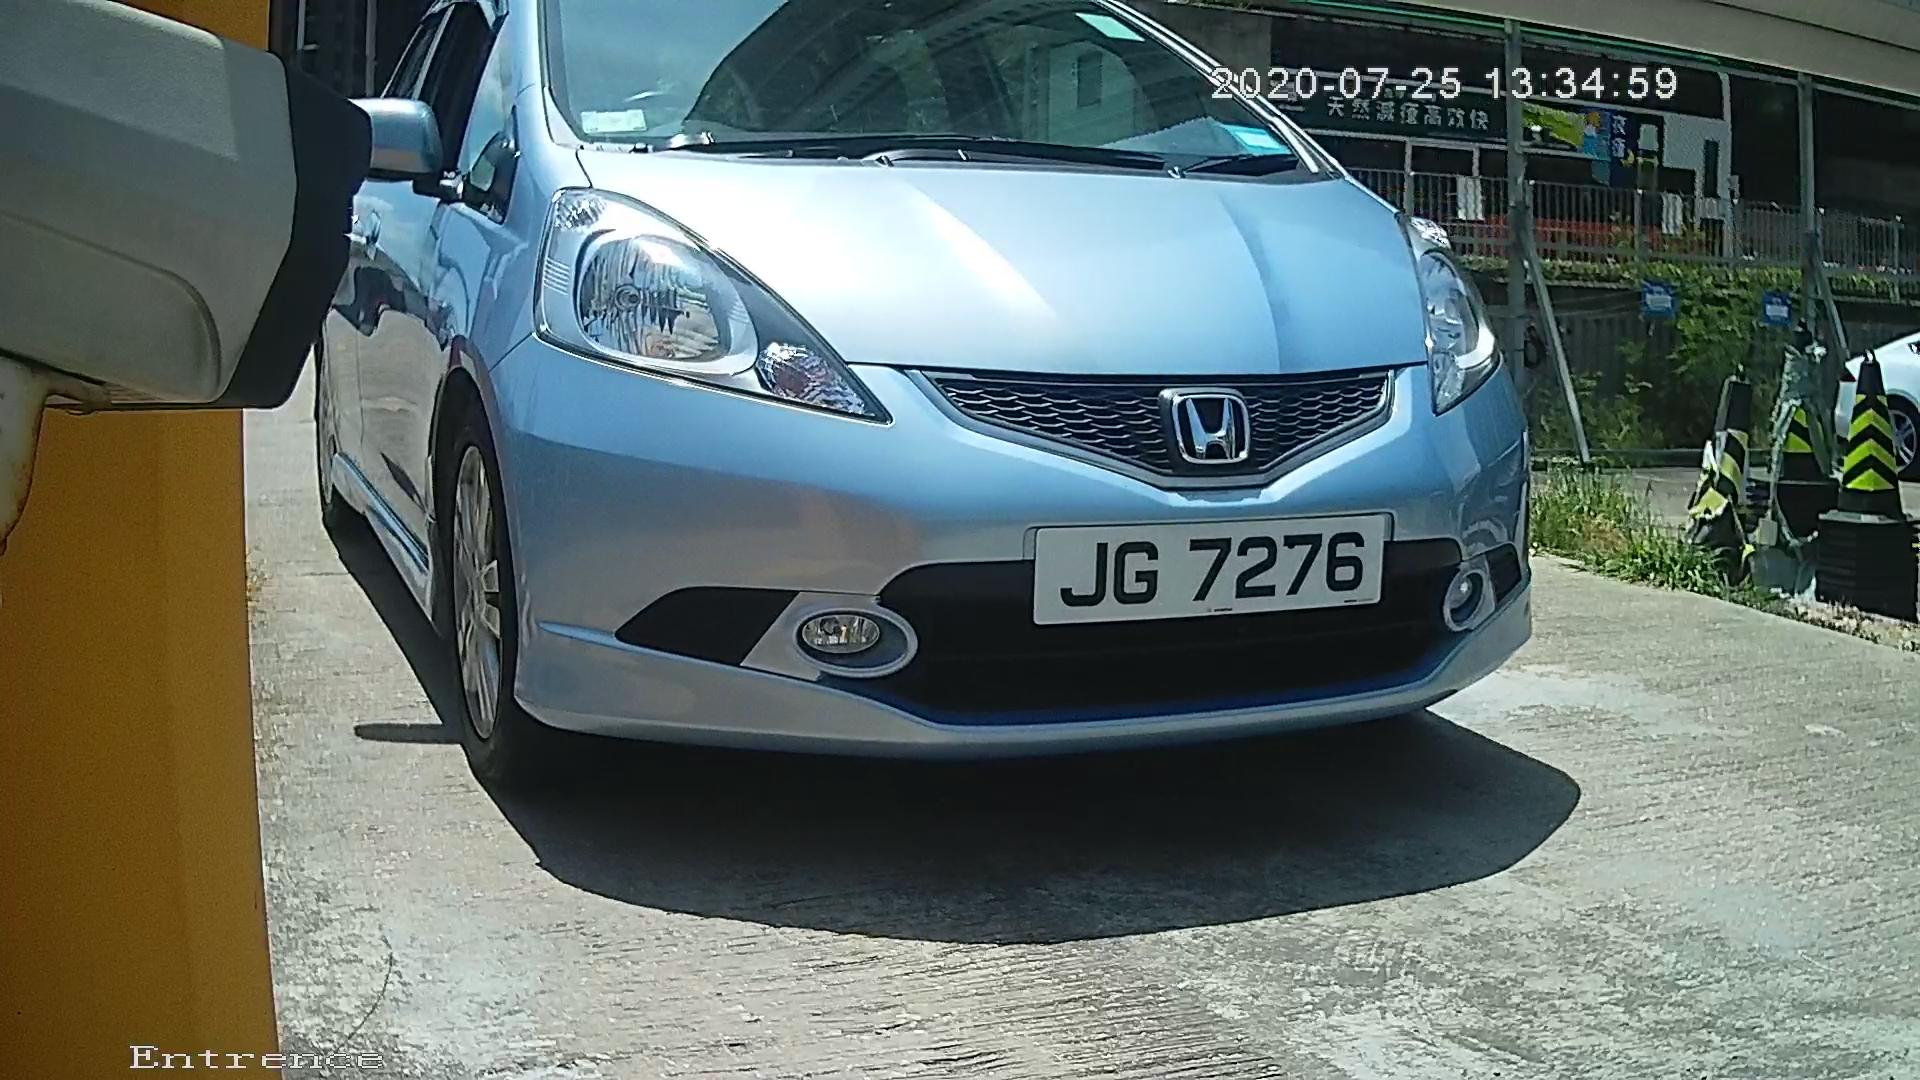Car: (189, 1, 1663, 854)
License Plate: (1012, 502, 1415, 637)
